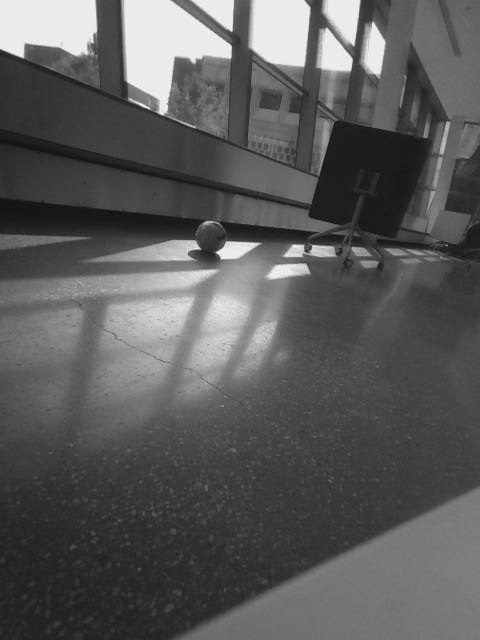ball: (192, 219, 229, 254)
